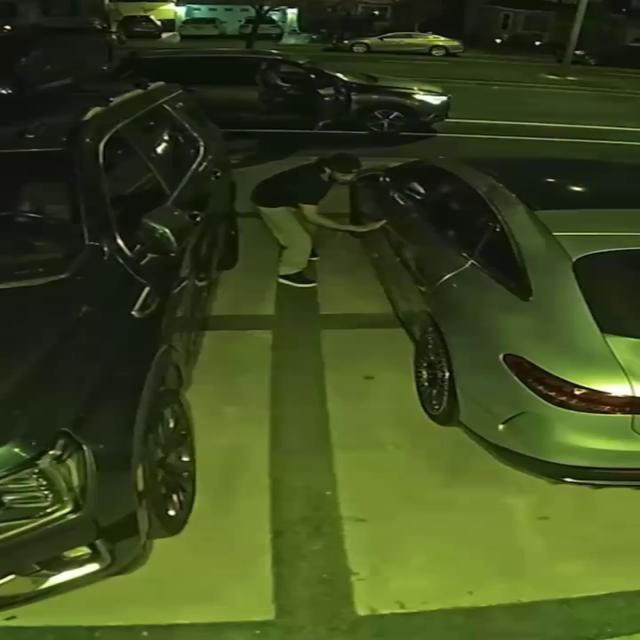Theft - Alert: (316, 129, 639, 486), (383, 435, 621, 601), (132, 52, 325, 151), (252, 162, 369, 288)
